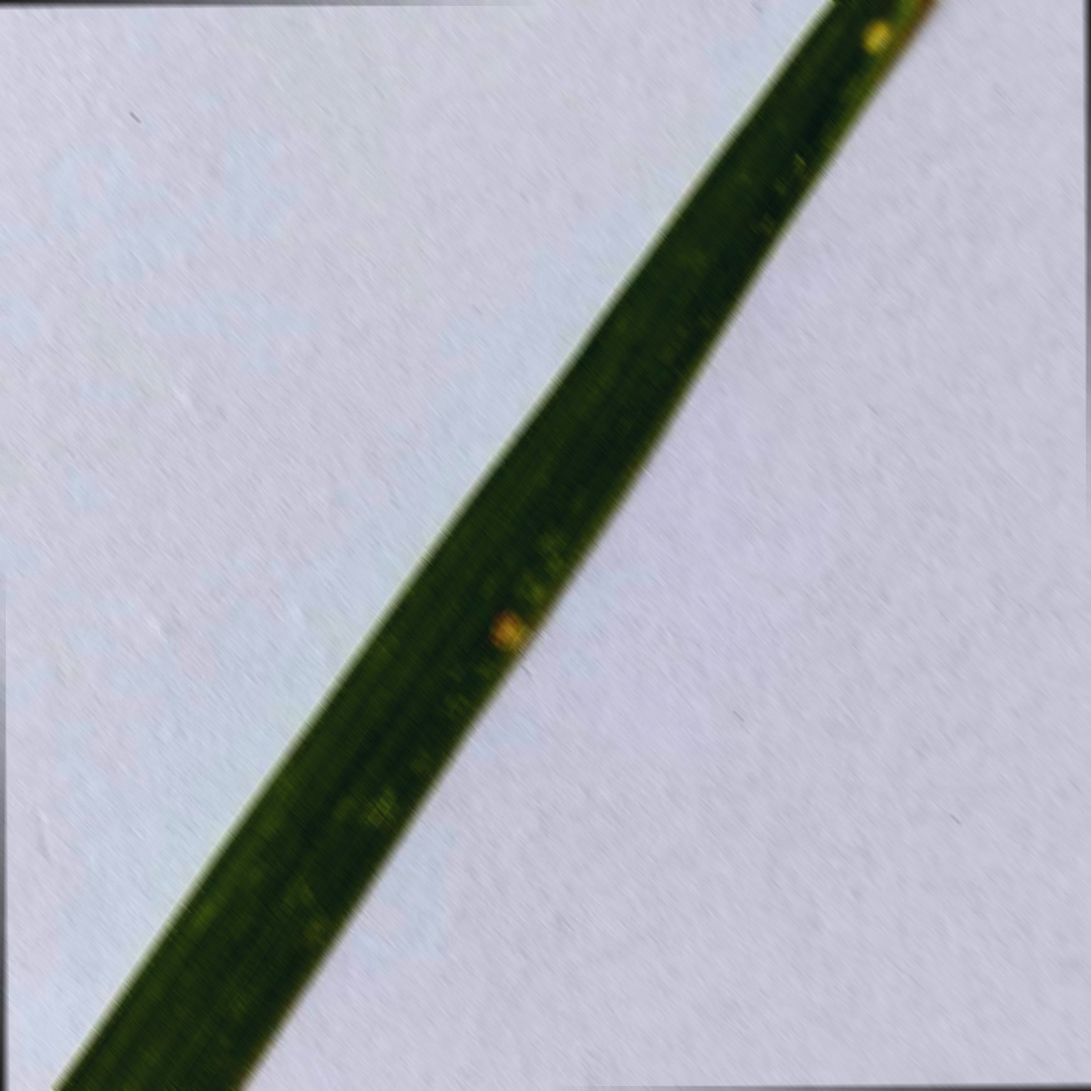Brown_Spot: (474, 577, 550, 664), (854, 8, 898, 57)
